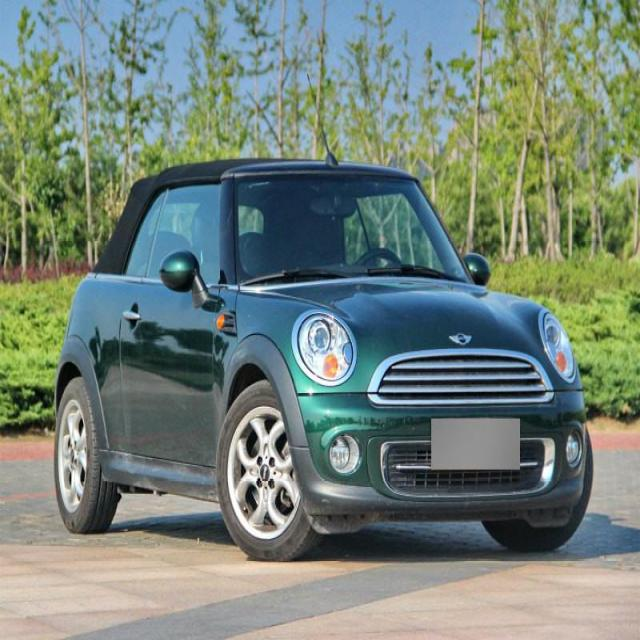front_bumper: (291, 387, 587, 523)
front_glass: (232, 166, 466, 285)
front_left_side_light: (538, 302, 577, 383)
front_left_side_mirror: (459, 247, 494, 289)
front_right_side_door: (115, 169, 229, 473)
front_right_side_light: (292, 305, 358, 388)
front_right_side_mirror: (162, 247, 211, 307)
wheel: (222, 382, 315, 556), (55, 377, 114, 534)
